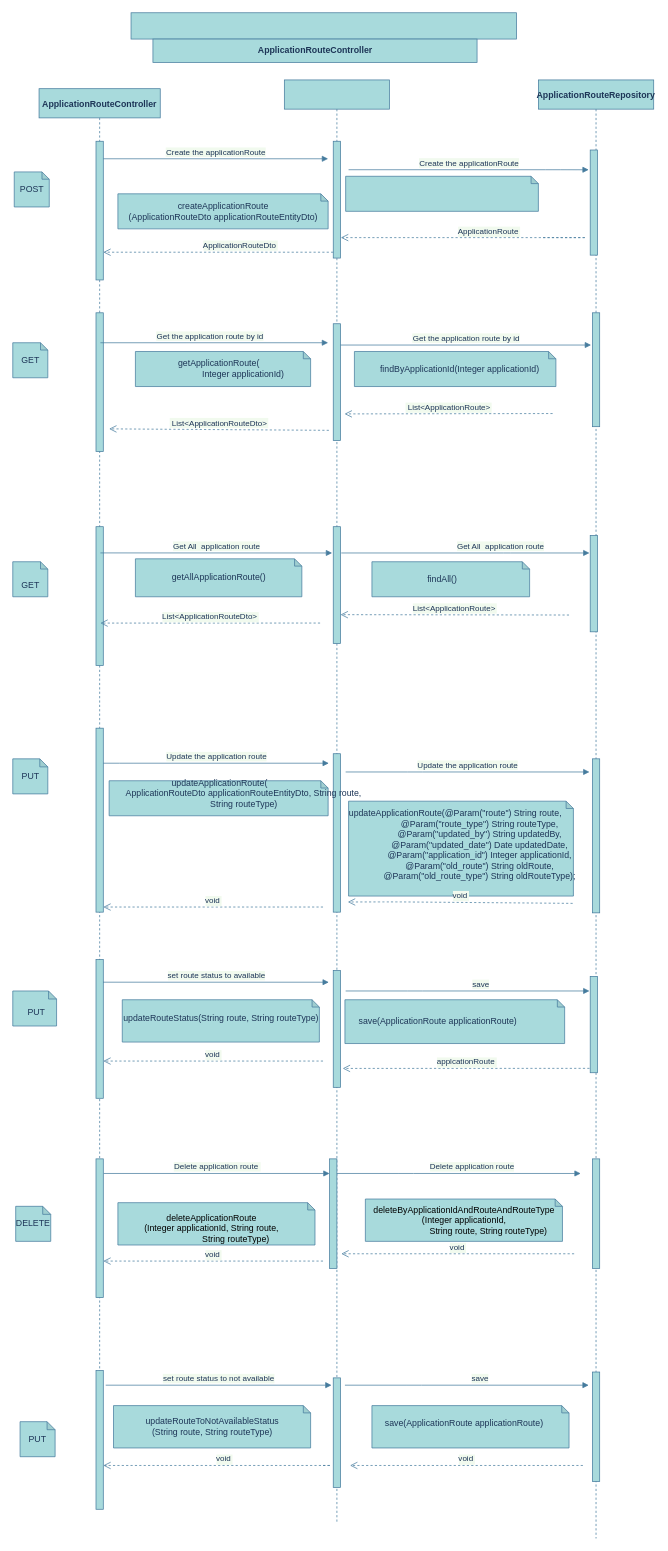
Image size: 668x1551. Some labels were removed from this diagram. The centre of each missing label's shape, as x and y in pixels:
ApplicationRouteService: the point at 336,801
RouteConfig Api: the point at 323,25
save (ApplicationRoute applicationRouteEntity): the point at 441,193
